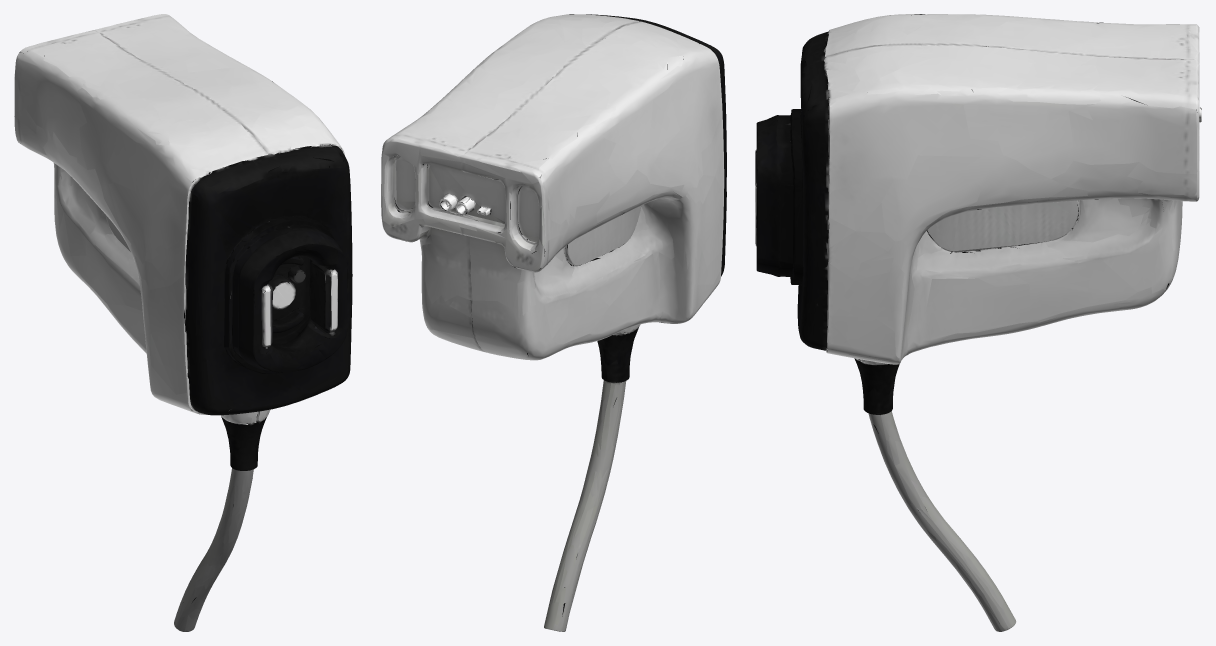
The model's file is minifx-3d.glb.
The picture shows the model from 3 angles, left to right: view 1: azimuth 30°, elevation 25°; view 2: azimuth 150°, elevation 25°; view 3: azimuth 270°, elevation 25°; orthographic projection. The views are drawn at different scales.
Visible parts, largest first — view 1: Mesh_0; view 2: Mesh_0; view 3: Mesh_0.
Boxes of the visible parts, x1=… form: Mesh_0: x1=14, y1=14, x2=352, y2=631; Mesh_0: x1=381, y1=14, x2=726, y2=631; Mesh_0: x1=755, y1=14, x2=1201, y2=631.
Size of the model in its own units: 0.6566 by 1.9 by 1.31.
1 material, 1 textured.
